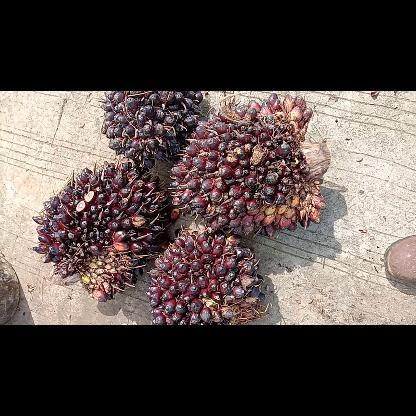TBS mentah: (166, 90, 334, 238), (29, 160, 169, 302), (145, 226, 268, 324), (96, 91, 204, 171)
